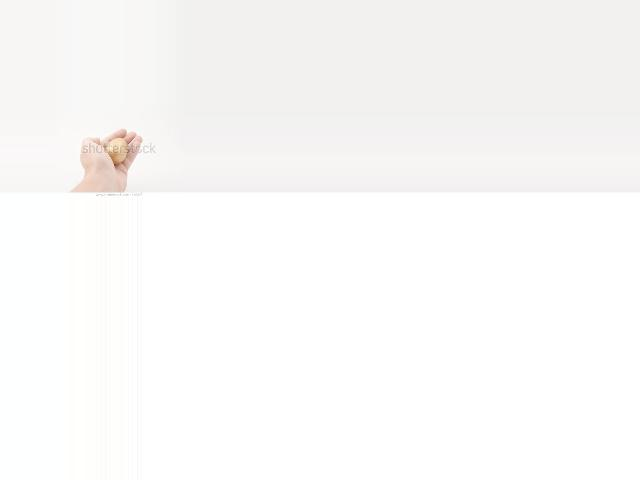egg: (106, 138, 127, 164)
